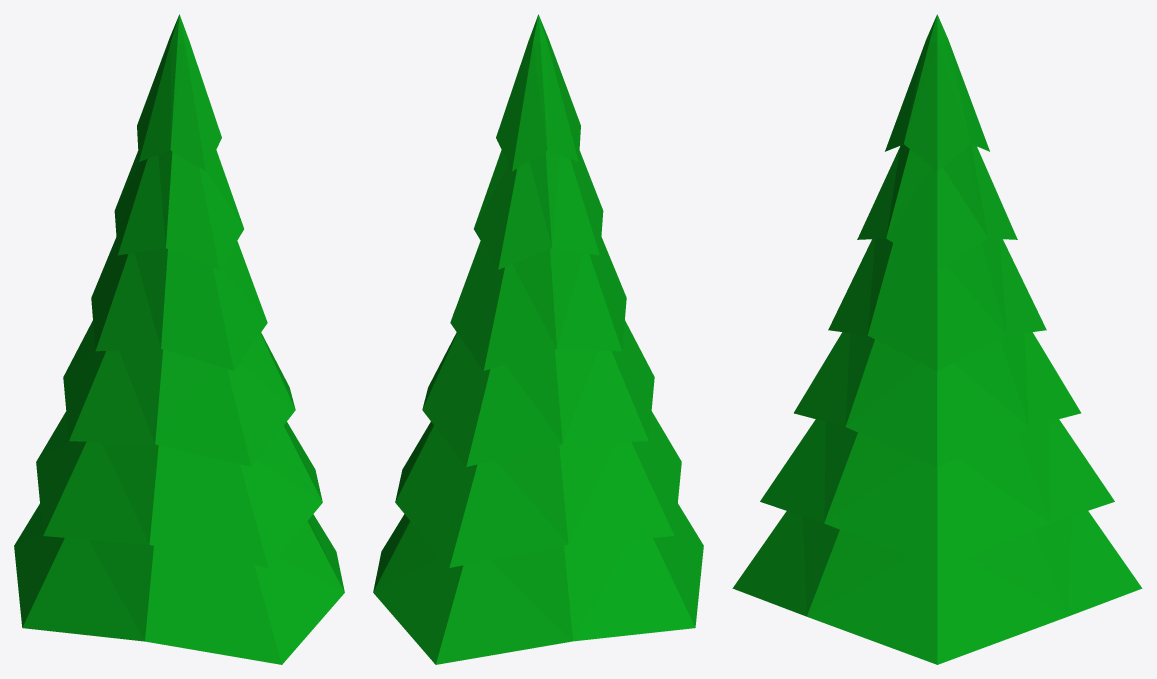
File: PineTree1.dae
The picture shows the model from 3 angles, left to right: view 1: azimuth 30°, elevation 25°; view 2: azimuth 150°, elevation 25°; view 3: azimuth 270°, elevation 25°; orthographic projection.
Visible parts, largest first — view 1: Tanne1; view 2: Tanne1; view 3: Tanne1.
Boxes of the visible parts, x1=… form: Tanne1: x1=14, y1=14, x2=344, y2=664; Tanne1: x1=373, y1=14, x2=703, y2=664; Tanne1: x1=732, y1=14, x2=1142, y2=664.
Bounding box in the file's own units: 8.58 × 9.72 × 15.41.
